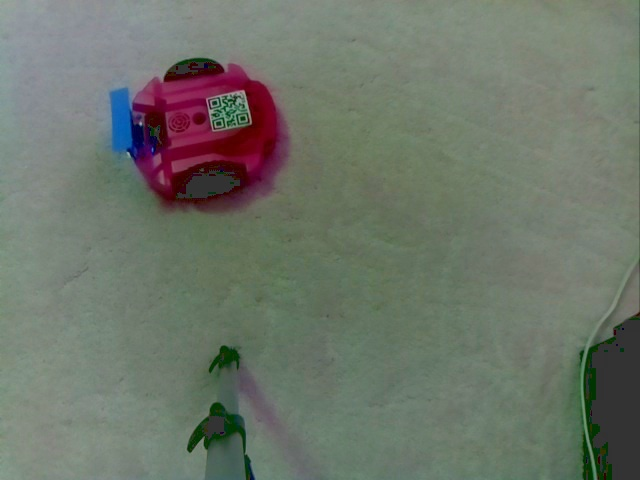board: (100, 87, 164, 156)
chassis: (105, 56, 283, 201)
